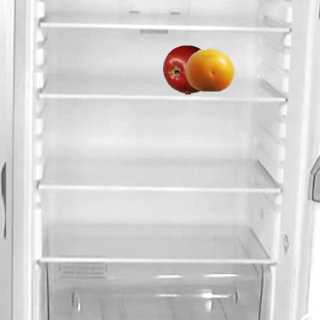Apple Braeburn: (162, 44, 212, 94)
Cherry Wax Yellow: (184, 44, 234, 94)
